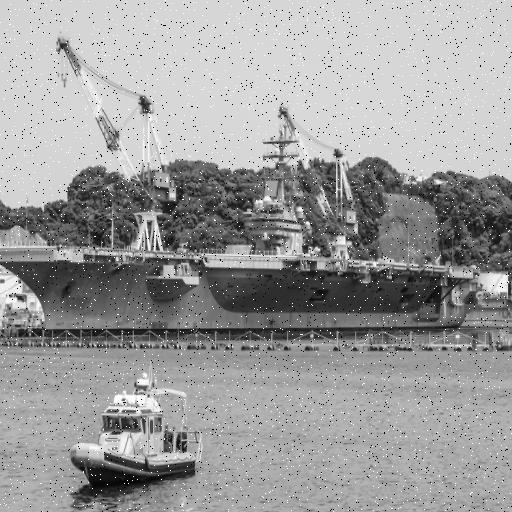Portanaves: (1, 113, 487, 341)
